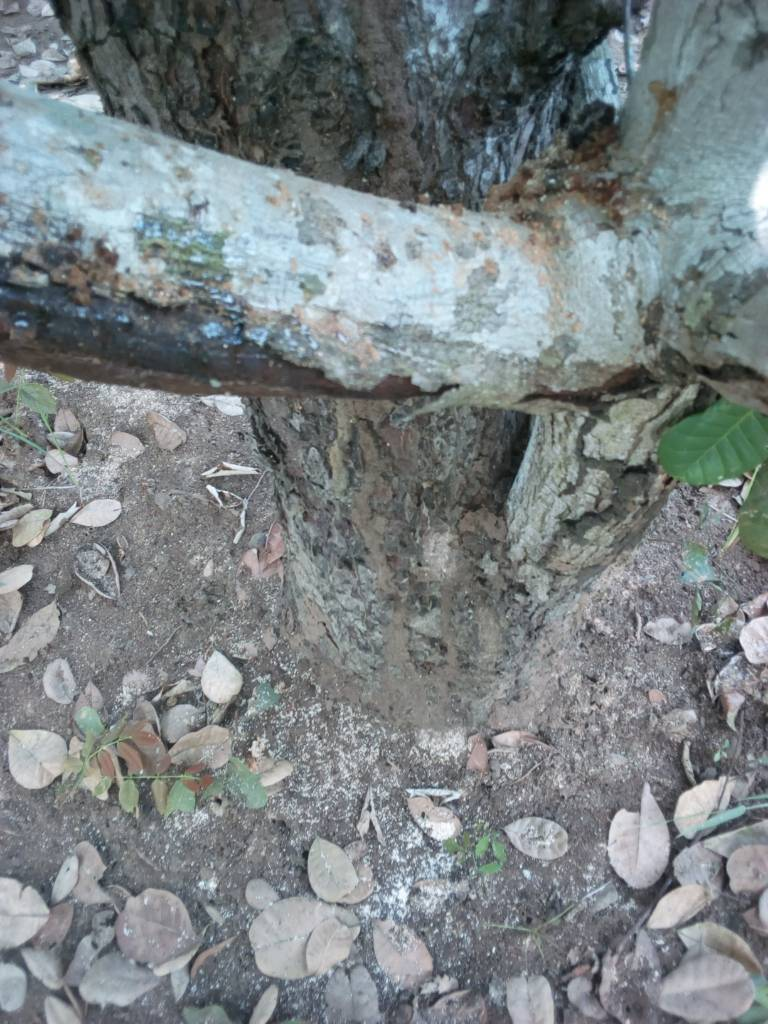Termites: (25, 236, 608, 410), (324, 438, 580, 742), (255, 8, 460, 188)
